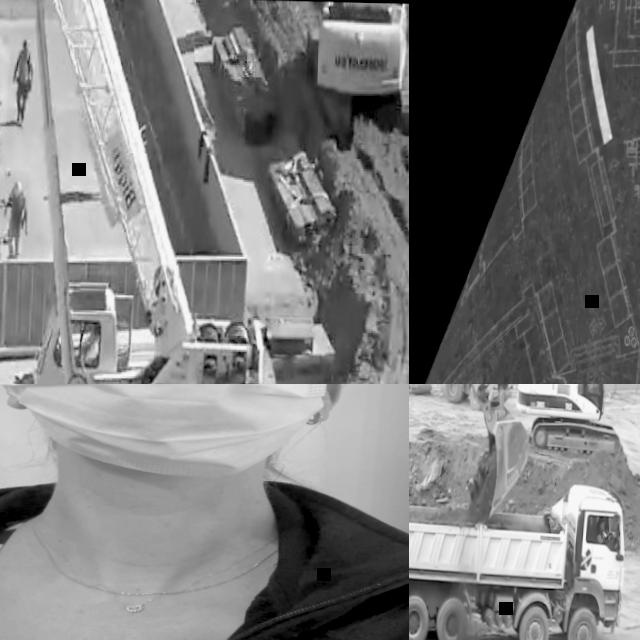Hardhat: (13, 180, 22, 197)
Mask: (6, 384, 356, 478)
NO-Hardhat: (600, 519, 606, 523)
NO-Safety Vest: (0, 506, 409, 640), (11, 198, 24, 223), (597, 530, 604, 539), (584, 384, 590, 394)
Person: (0, 384, 409, 640), (3, 178, 30, 258), (11, 38, 35, 127), (79, 325, 100, 364), (585, 384, 601, 406), (596, 519, 607, 542)
Safety Vest: (84, 337, 99, 362), (18, 56, 30, 82)
machinery: (0, 0, 290, 384), (409, 476, 627, 640), (409, 384, 535, 544), (305, 0, 409, 148), (514, 384, 640, 457), (411, 384, 510, 404)
